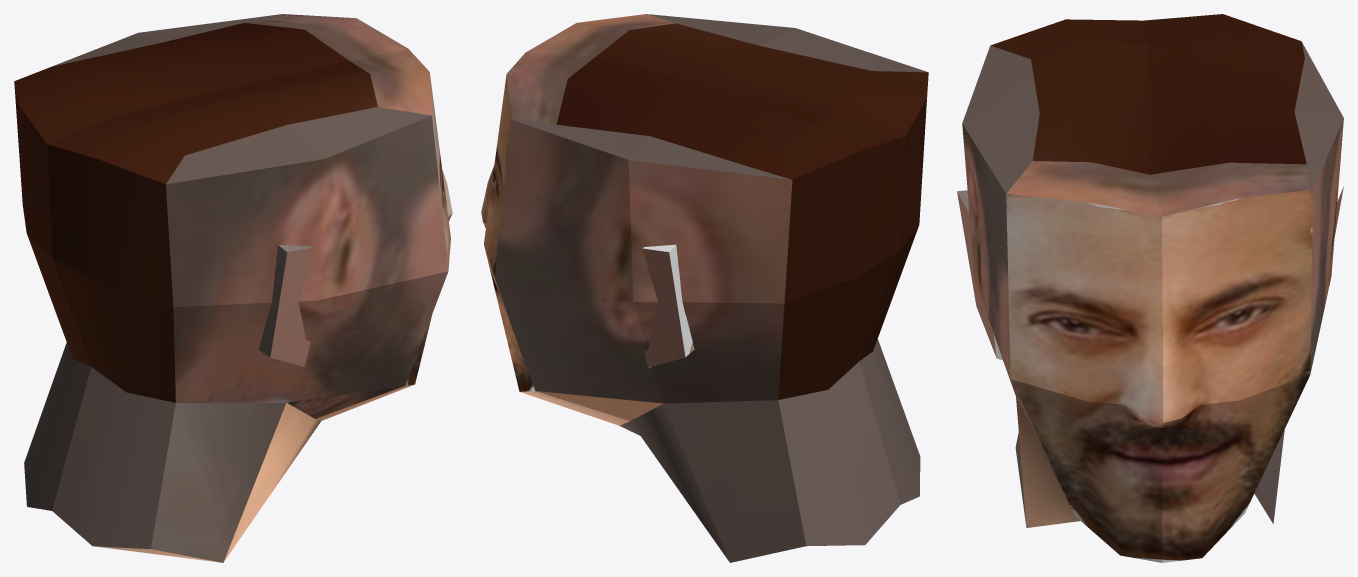
Rendered from finalselmonbhai.fbx.
3 renders of one model, left to right at view 1: azimuth 30°, elevation 25°; view 2: azimuth 150°, elevation 25°; view 3: azimuth 270°, elevation 25°, orthographic. The views are drawn at different scales.
Parts seen in each view (by area): view 1: Cylinder; view 2: Cylinder; view 3: Cylinder.
Boxes of the visible parts, x1,y1,x2,y2 form: Cylinder: [14, 14, 452, 562]; Cylinder: [481, 14, 928, 562]; Cylinder: [957, 14, 1343, 562].
Size of the model in its own units: 304 by 299 by 227.
Materials: 1 (1 with a texture image).
